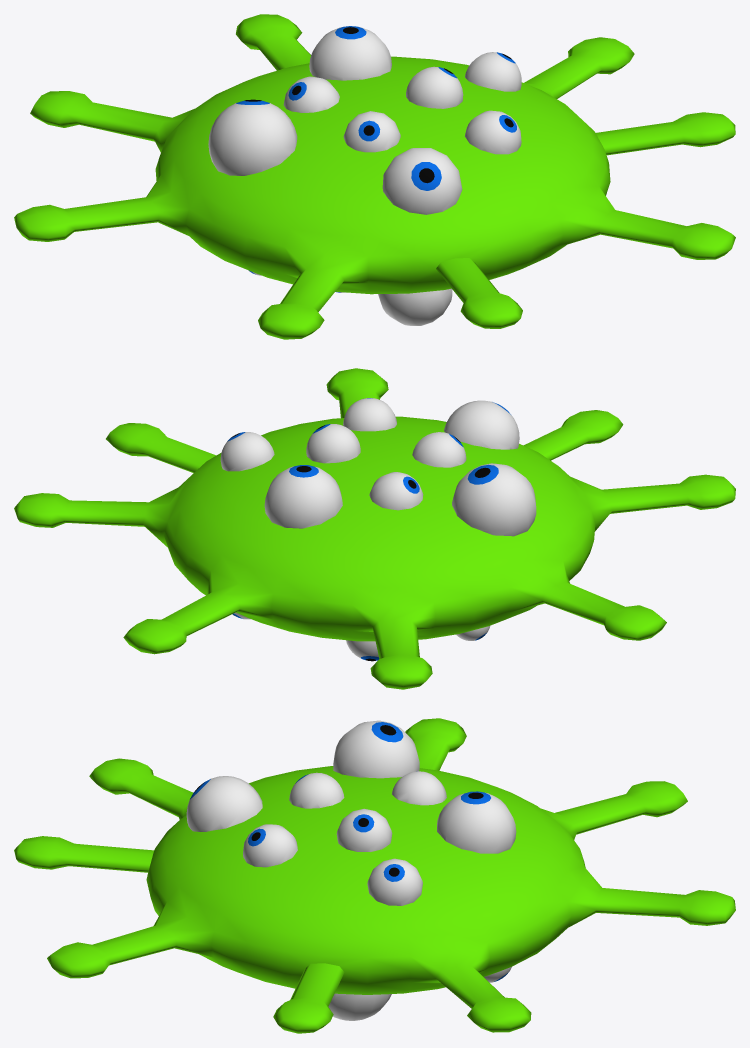
Rendered from playerObject.fbx.
3 views of the same model, one above another, from view 1: azimuth 30°, elevation 25°; view 2: azimuth 150°, elevation 25°; view 3: azimuth 270°, elevation 25° (orthographic). The views are drawn at different scales.
Parts seen in each view (by area): view 1: Sphere, Sphere.001, Sphere.002; view 2: Sphere, Sphere.001, Sphere.002; view 3: Sphere, Sphere.001, Sphere.002.
Boxes of the visible parts, bbox=[...] form: Sphere: bbox=[14, 14, 735, 339]; Sphere.001: bbox=[208, 26, 521, 214]; Sphere.002: bbox=[248, 270, 452, 325]; Sphere: bbox=[14, 368, 735, 689]; Sphere.001: bbox=[220, 398, 536, 536]; Sphere.002: bbox=[232, 612, 490, 661]; Sphere: bbox=[14, 718, 735, 1033]; Sphere.001: bbox=[186, 720, 516, 905]; Sphere.002: bbox=[328, 967, 511, 1020].
Bounding box in the file's own units: 327 × 94.95 × 327.
